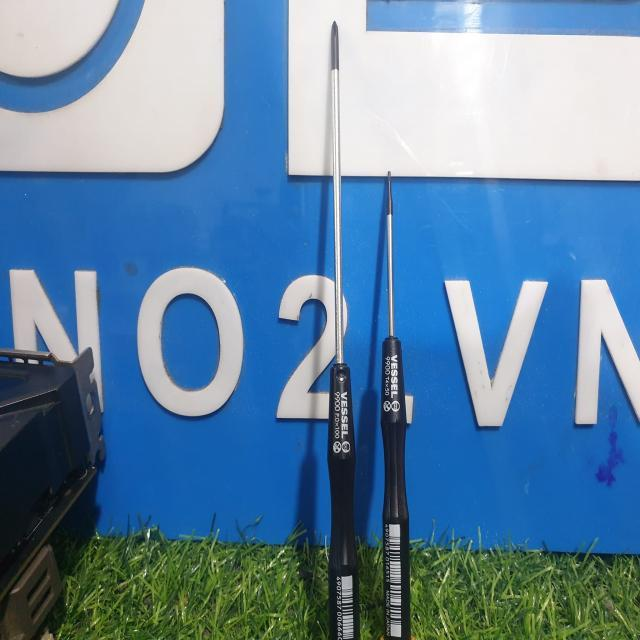screwdriver: (324, 16, 358, 640), (377, 164, 411, 640)
